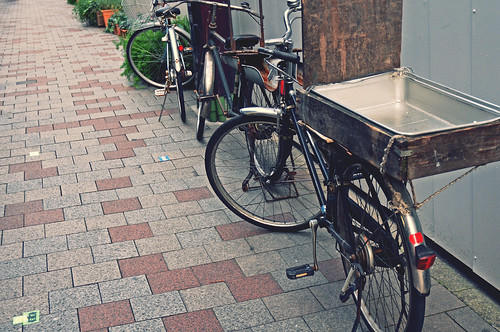bicicle: (215, 60, 423, 332), (189, 1, 302, 144), (119, 1, 196, 116)
sidewalk: (1, 1, 331, 329)
